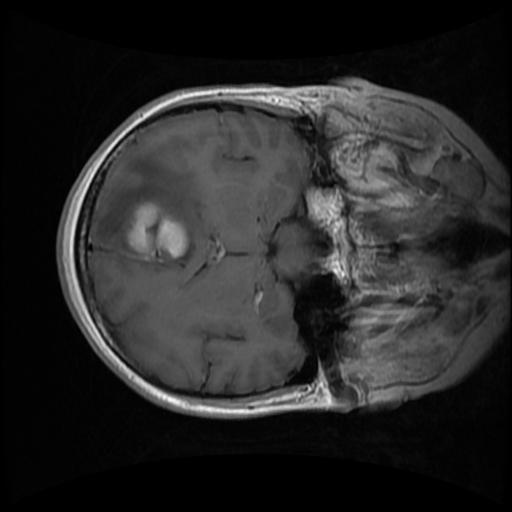meningioma: (124, 204, 190, 260)
